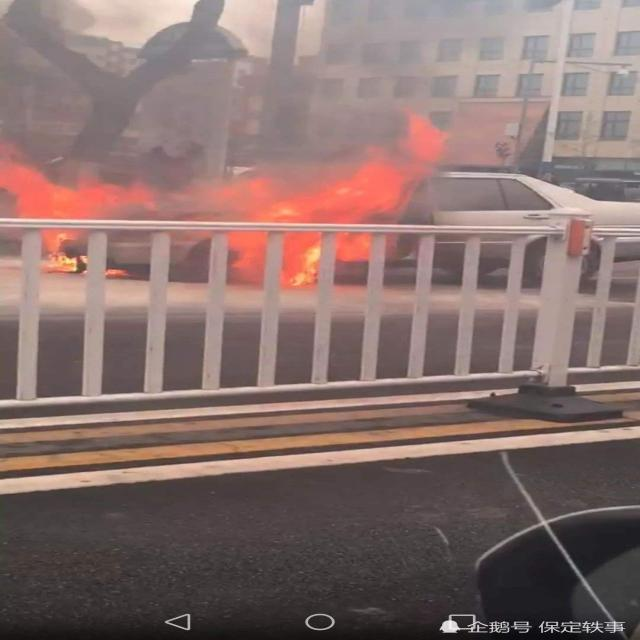Fire: (210, 109, 448, 287), (2, 143, 160, 274)
Smoke: (1, 1, 512, 226)
